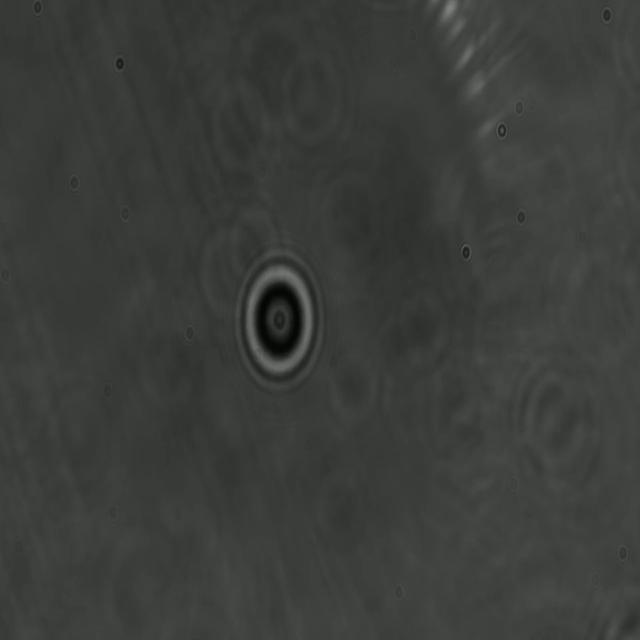LCELL: (233, 244, 326, 394)
